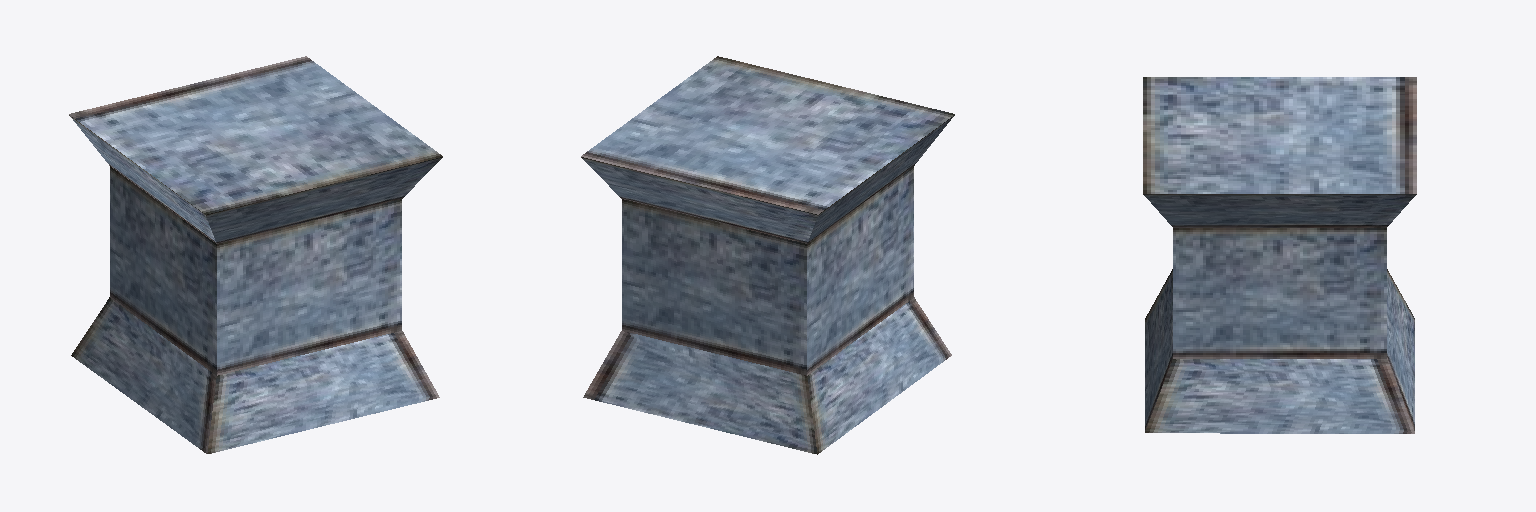
3 renders of one model, left to right at view 1: azimuth 30°, elevation 25°; view 2: azimuth 150°, elevation 25°; view 3: azimuth 270°, elevation 25°, orthographic.
Parts seen in each view (by area): view 1: Cube; view 2: Cube; view 3: Cube.
Boxes of the visible parts, x1=… form: Cube: x1=69, y1=56, x2=442, y2=453; Cube: x1=581, y1=56, x2=954, y2=454; Cube: x1=1143, y1=77, x2=1416, y2=433.
Bounding box in the file's own units: 2.03 × 1.96 × 2.03.
1 materials, 1 textured.